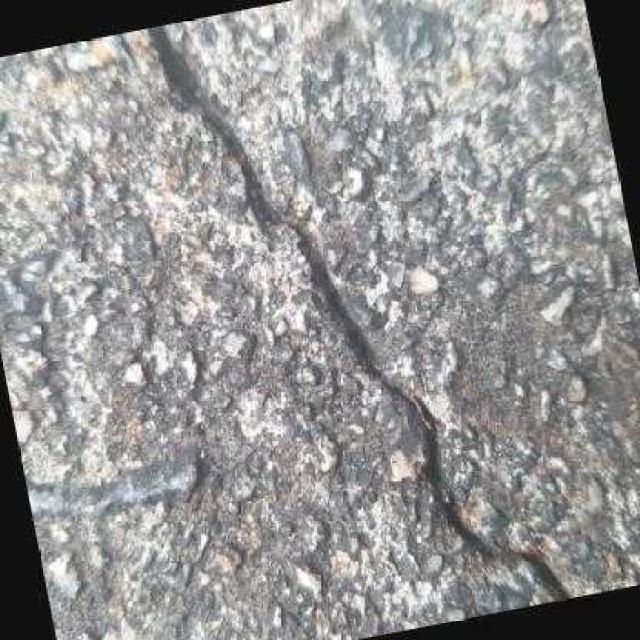D00: (135, 24, 581, 601)
